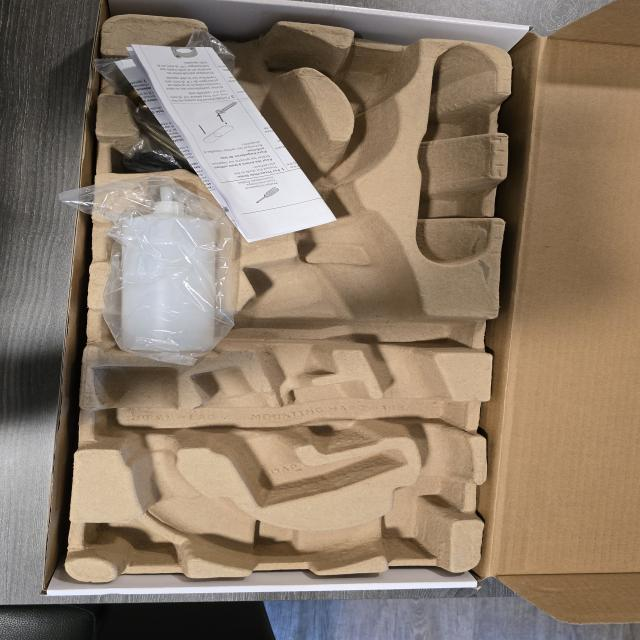1m: (92, 25, 460, 576)
2m: (192, 368, 404, 504)
3: (117, 189, 219, 354)
4m: (416, 46, 497, 266)
5m: (333, 55, 413, 107)
6o: (92, 29, 234, 111)
7o: (119, 103, 242, 183)
8: (110, 44, 339, 242)
